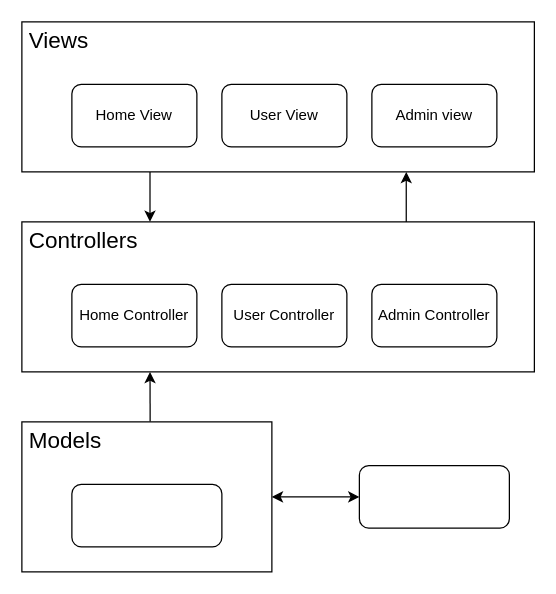
This 556x594 diagram has some shape labels left out. Here are the shapes that lost their labels. From the top down, the centre of each, then its label:
At (146,515): "AudioMarketContext".
At (433,496): "AudioMarket Database".
